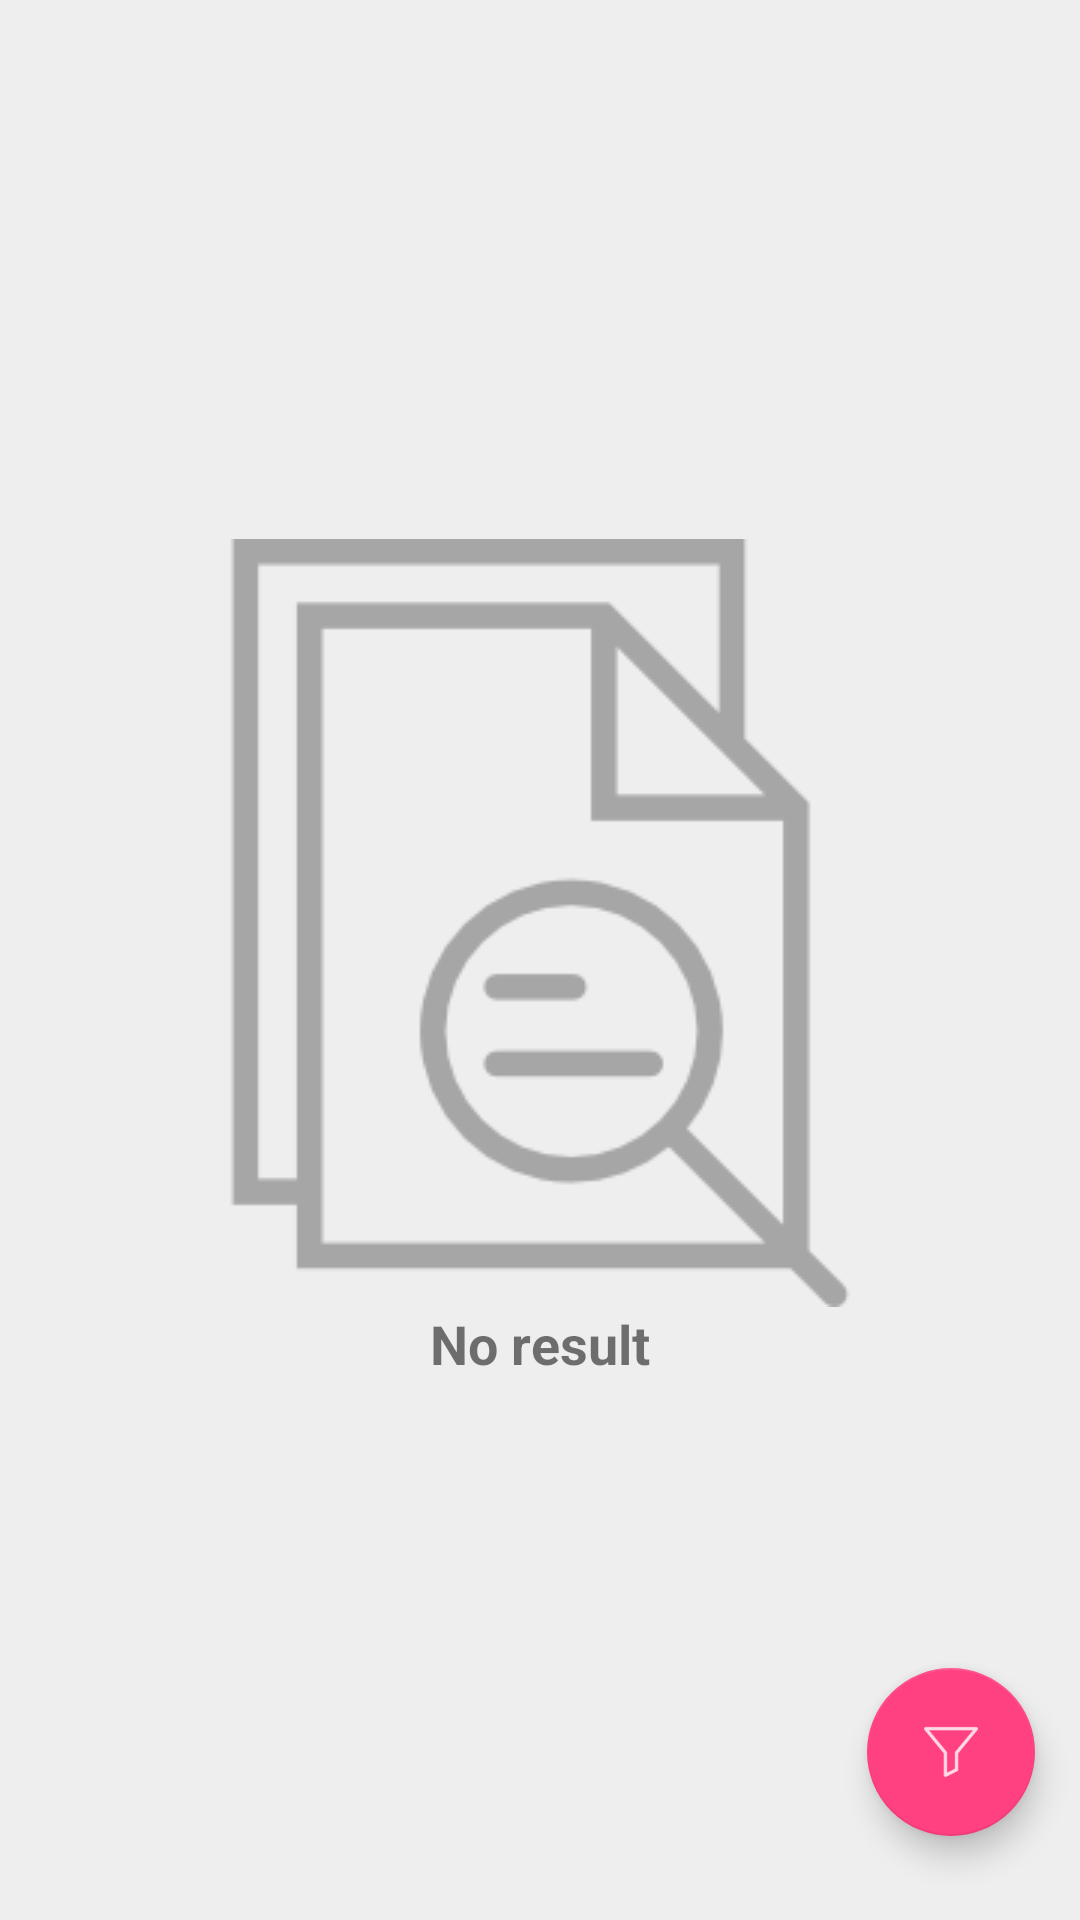

Icons on this 1080×1920 Android screen, each with the point to tap as [x,y]:
filter: [951,1752]
